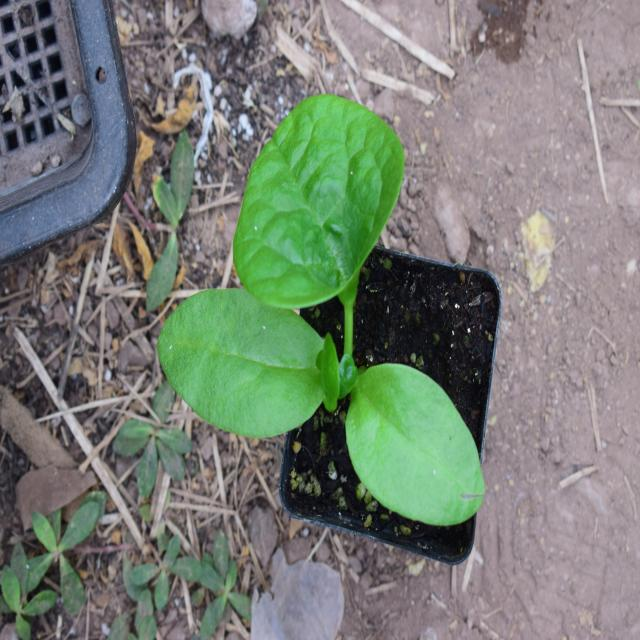Ceylon spinach: (202, 124, 472, 502)
